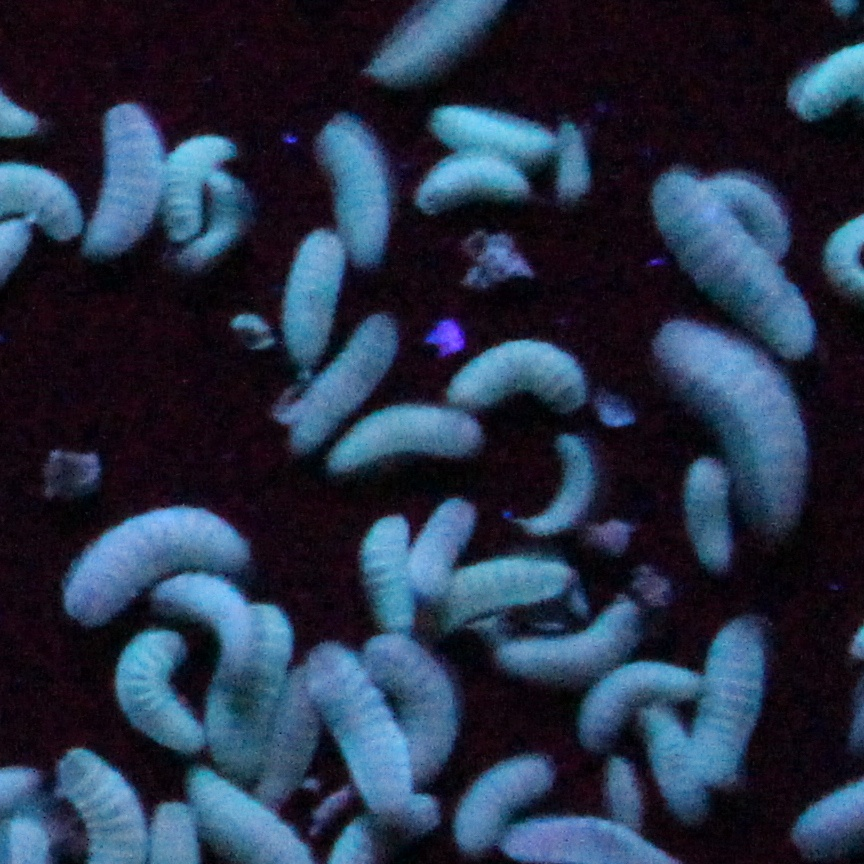larve: (683, 323, 817, 513), (668, 174, 812, 337), (75, 515, 224, 601), (319, 118, 400, 252), (329, 654, 402, 796), (304, 323, 383, 452), (212, 601, 270, 769), (353, 401, 478, 474), (707, 623, 770, 757), (458, 330, 583, 396), (95, 118, 156, 247), (124, 635, 195, 742), (265, 664, 317, 803), (509, 625, 641, 679), (685, 462, 748, 564), (400, 650, 451, 776), (178, 574, 248, 662), (370, 530, 422, 642), (597, 676, 683, 742), (458, 762, 529, 837), (465, 564, 583, 608), (297, 240, 339, 362), (656, 720, 709, 813), (173, 137, 217, 235), (422, 503, 470, 591), (531, 450, 585, 528), (422, 169, 524, 208), (443, 113, 546, 150), (731, 169, 780, 245), (607, 764, 656, 837), (563, 135, 600, 203), (217, 169, 241, 247)
